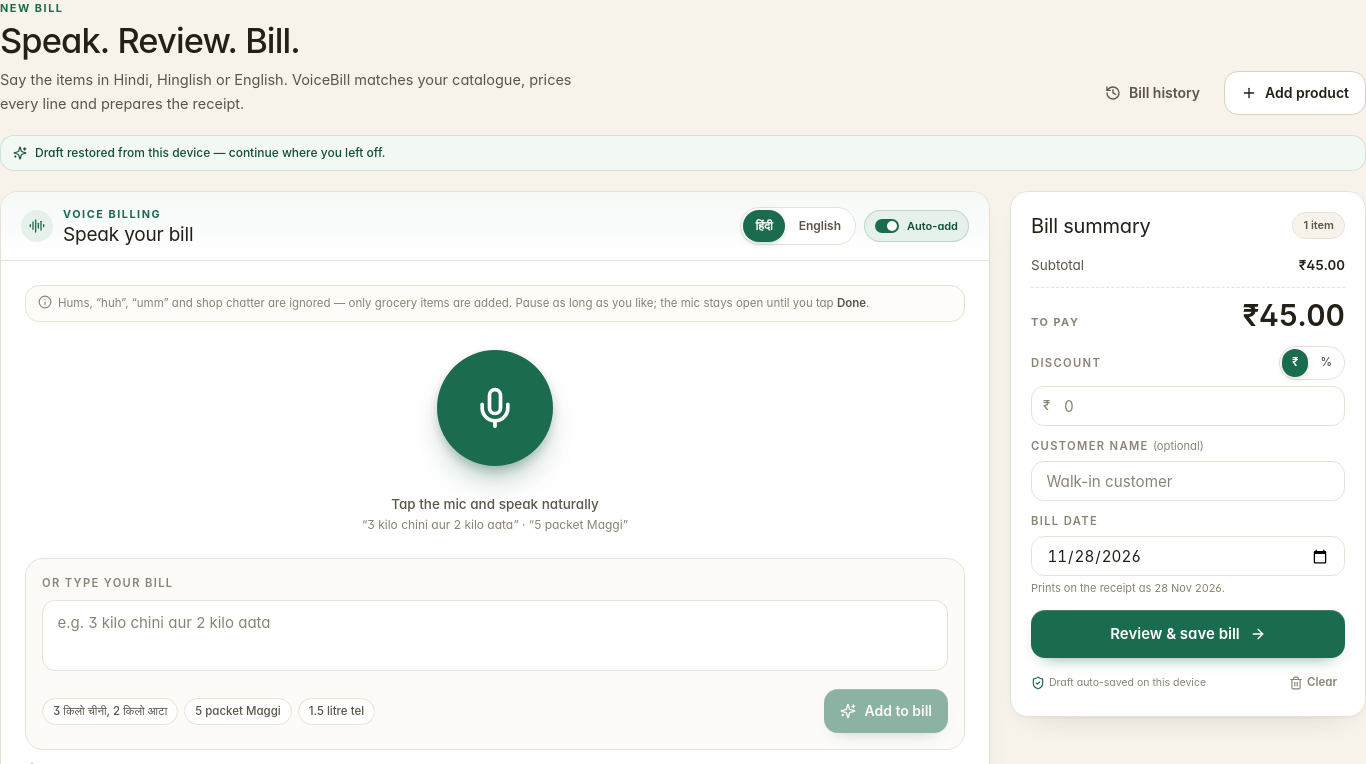
Test: new bill workspace › keeps the current draft when the microphone permission is denied
The image size is (1366, 764).
Expected: the text "Draft restored from this device — continue where you left off." is shown, [0, 135, 1365, 171]
Click the button named "start voice input" at (495, 408), box [437, 350, 553, 466]
(page scrolled)
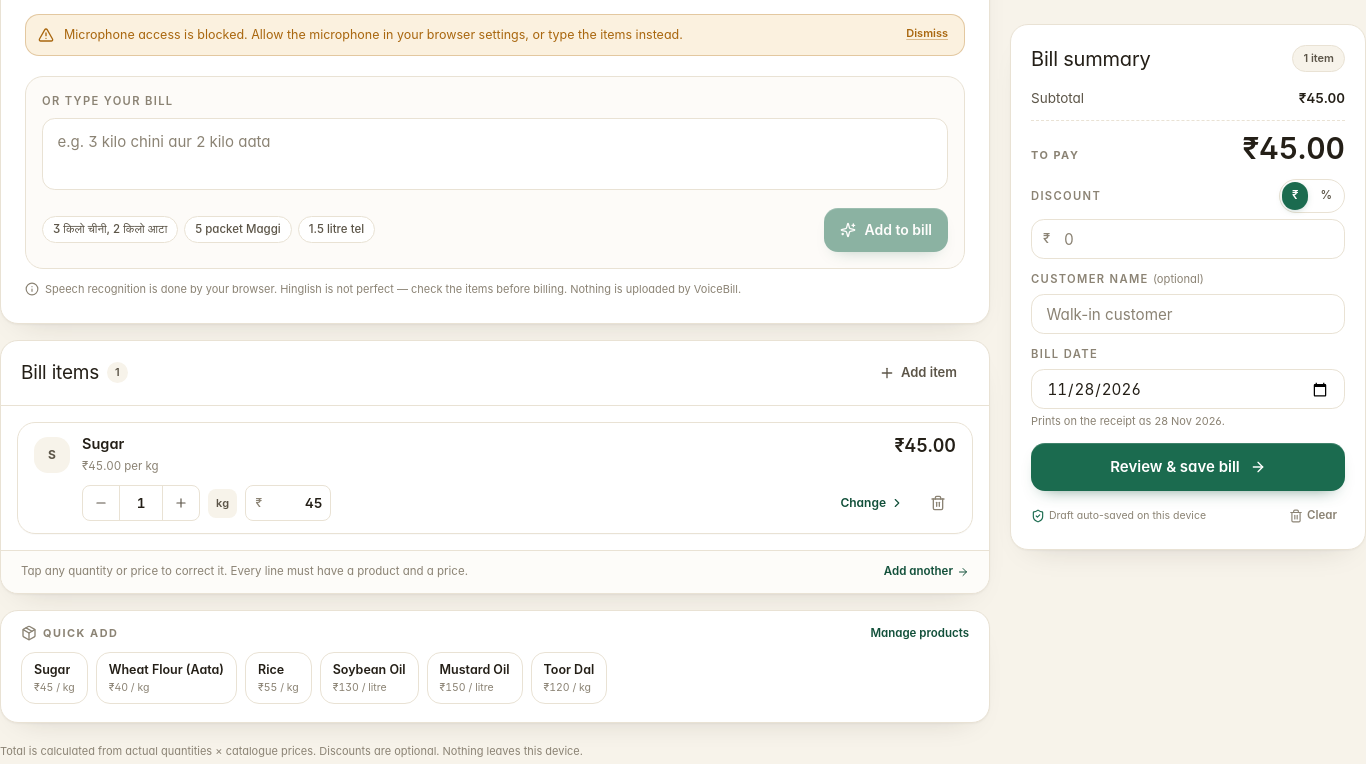
Expected: the field named "Quantity of Sugar" is shown, [119, 486, 163, 520]
Now the text "Microphone access is blocked" is shown, box [64, 27, 683, 42]
